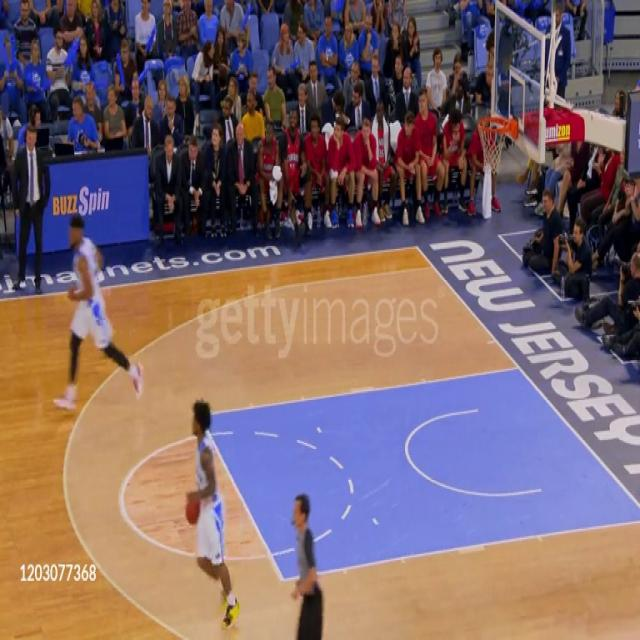ball: (184, 495, 200, 524)
